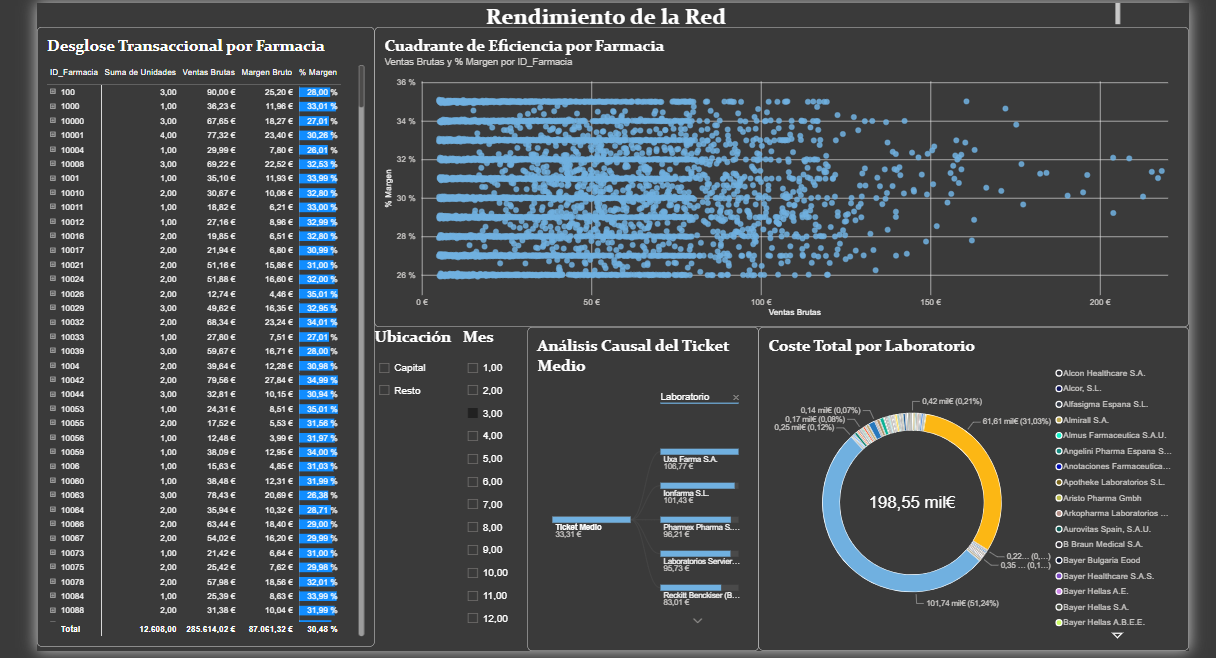

Layout of this report page (visuals, bound fields, positions):
{"tool":"powerbi","page":{"name":"Rendimiento de la Red","canvas":[1920,1080],"ordinal":2},"visuals":[{"type":"pivotTable","title":"Desglose Transaccional por Farmacia","fields":{"Rows":["Dim_Farmacia.ID_Farmacia","Dim_Geografia.Nombre_Municipio"],"Values":["Sum(Fact_Ventas.Unidades)","_Medidas.Ventas Brutas","_Medidas.Margen Bruto","_Medidas.% Margen"]},"box":[0,40,562.5,1032.5],"z":0},{"type":"scatterChart","title":"Cuadrante de Eficiencia por Farmacia","fields":{"Category":["Dim_Farmacia.ID_Farmacia"],"X":["_Medidas.Ventas Brutas"],"Y":["_Medidas.% Margen"]},"box":[562.5,40,1357.5,500],"z":1000},{"type":"slicer","title":"Ubicación","fields":{"Values":["Dim_Farmacia.Ubicacion"]},"box":[562.5,540,147.5,540],"z":2000},{"type":"slicer","title":"Mes","fields":{"Values":["Dim_Tiempo.Mes"]},"box":[710,540,107.5,540],"z":3000},{"type":"decompositionTreeVisual","title":"Análisis Causal del Ticket Medio","fields":{"ExplainBy":["Dim_Producto.Laboratorio"],"Analyze":["_Medidas.Ticket Medio"]},"box":[817.5,540,385,540],"z":4000},{"type":"donutChart","title":"Coste Total por Laboratorio","fields":{"Series":["Dim_Producto.Laboratorio"],"Y":["_Medidas.Coste Total"]},"box":[1203,541,717,539],"z":5000},{"type":"textbox","box":[100,0,1705,40],"z":6000}]}

Visuals, with their boxes on the page's 1920x1080 design canvas (x1, y1, x2, y2). These are canvas units, not pixel positions in the 1216x658 screenshot, which may show the page scaled, cropped or inside an application window:
"Desglose Transaccional por Farmacia" pivotTable: {"left": 0, "top": 40, "right": 562, "bottom": 1072}
"Cuadrante de Eficiencia por Farmacia" scatterChart: {"left": 562, "top": 40, "right": 1920, "bottom": 540}
"Ubicación" slicer: {"left": 562, "top": 540, "right": 710, "bottom": 1080}
"Mes" slicer: {"left": 710, "top": 540, "right": 818, "bottom": 1080}
"Análisis Causal del Ticket Medio" decompositionTreeVisual: {"left": 818, "top": 540, "right": 1202, "bottom": 1080}
"Coste Total por Laboratorio" donutChart: {"left": 1203, "top": 541, "right": 1920, "bottom": 1080}
textbox: {"left": 100, "top": 0, "right": 1805, "bottom": 40}
